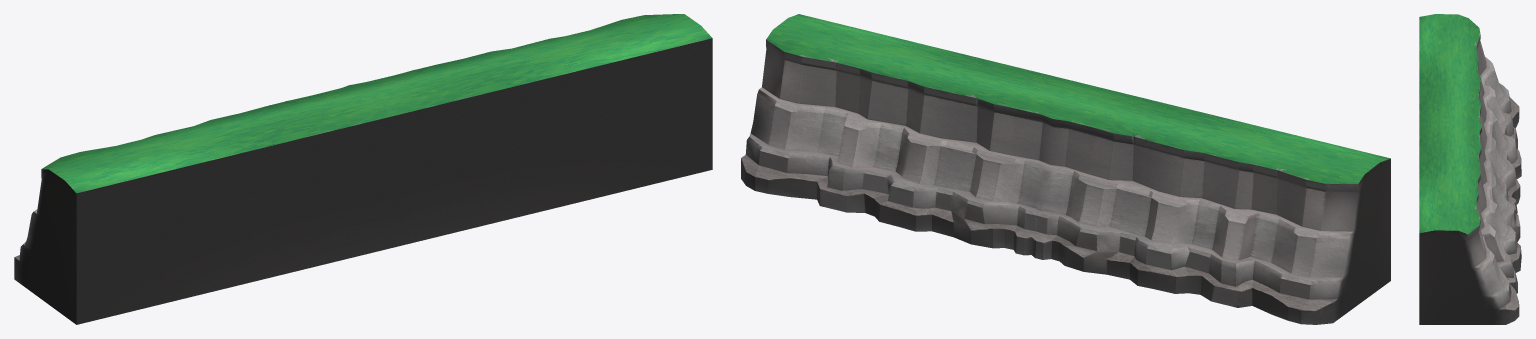
The model's file is Cliff.fbx.
3 views of the same model, side by side, from view 1: azimuth 30°, elevation 25°; view 2: azimuth 150°, elevation 25°; view 3: azimuth 270°, elevation 25° (orthographic). The views are drawn at different scales.
Visible parts, largest first — view 1: Plane001; view 2: Plane001; view 3: Plane001.
Part boxes in pixels (box(x1,y1,x2,y2)): Plane001: box(14, 14, 712, 324); Plane001: box(741, 14, 1390, 324); Plane001: box(1419, 14, 1521, 324).
Size of the model in its own units: 1537 by 314 by 308.
